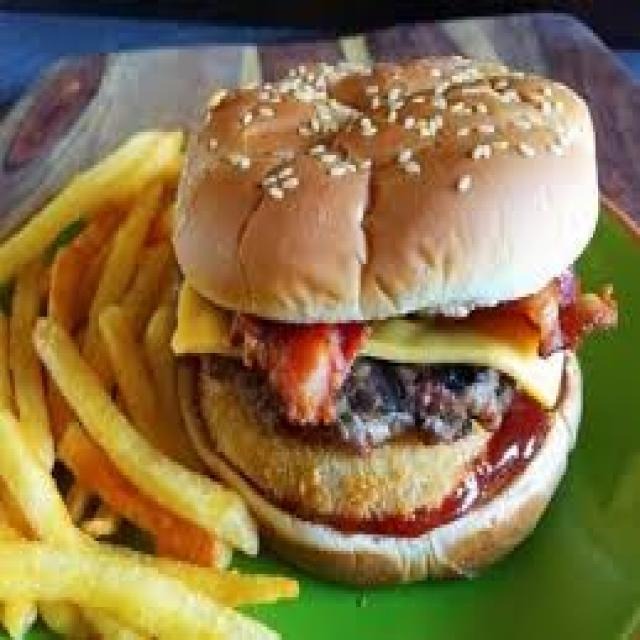Burger: (175, 46, 618, 584)
French Fries: (0, 117, 200, 640)
